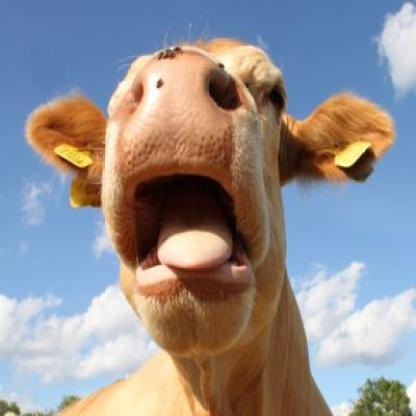lower: (183, 304, 203, 318)
mouth: (111, 54, 264, 352)
upper: (161, 77, 186, 102)
